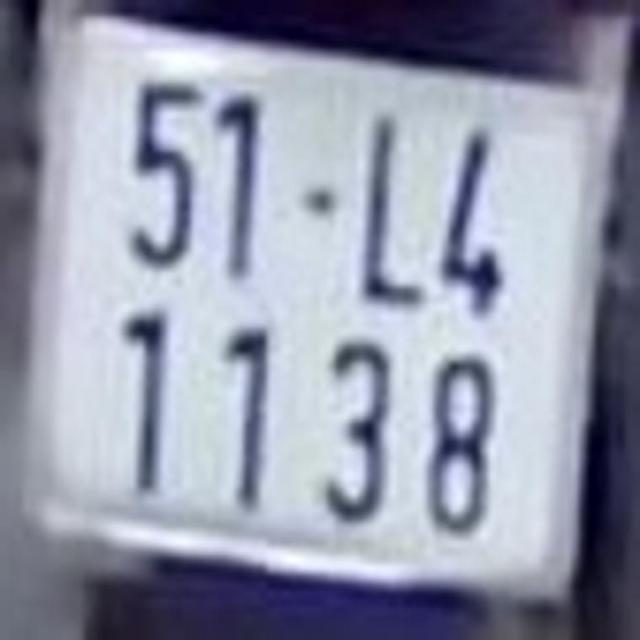1: (220, 318, 280, 540), (206, 87, 262, 296), (120, 306, 172, 508)
3: (327, 330, 392, 534)
4: (434, 127, 510, 328)
5: (121, 79, 203, 282)
8: (428, 352, 494, 546)
L: (357, 107, 430, 312)
